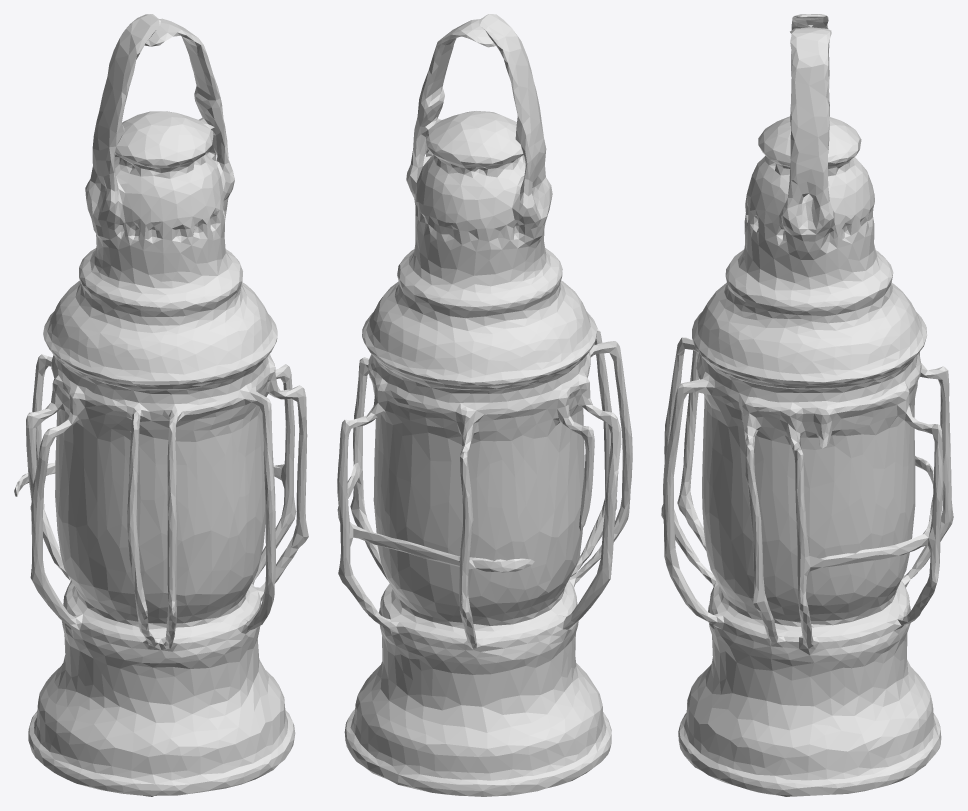
Rendered from lantern_frost_r1.glb.
The picture shows the model from 3 angles, left to right: view 1: azimuth 30°, elevation 25°; view 2: azimuth 150°, elevation 25°; view 3: azimuth 270°, elevation 25°; orthographic projection.
Parts seen in each view (by area): view 1: Low; view 2: Low; view 3: Low.
Boxes of the visible parts, x1,y1,x2,y2 form: Low: (14, 14, 308, 796); Low: (337, 14, 632, 796); Low: (661, 14, 953, 796).
Bounding box in the file's own units: 0.7576 × 1.99 × 0.7265.
Materials: 1 (1 with a texture image).
